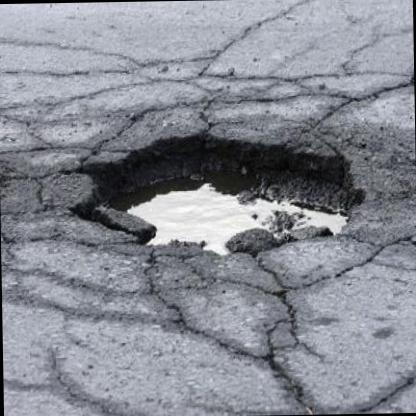pothole: (65, 121, 367, 266)
